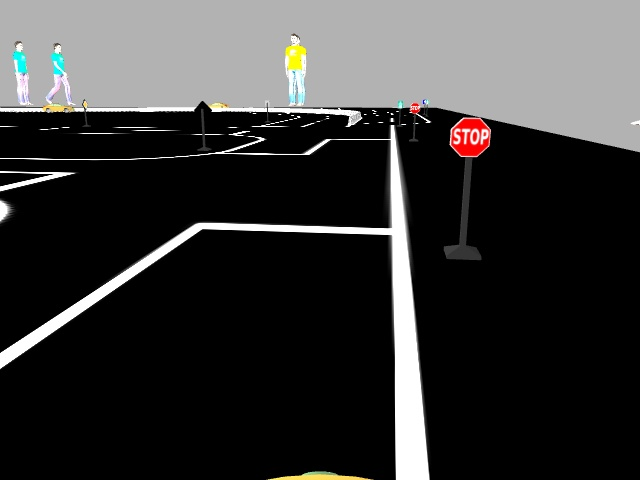Stop: (446, 114, 493, 160)
